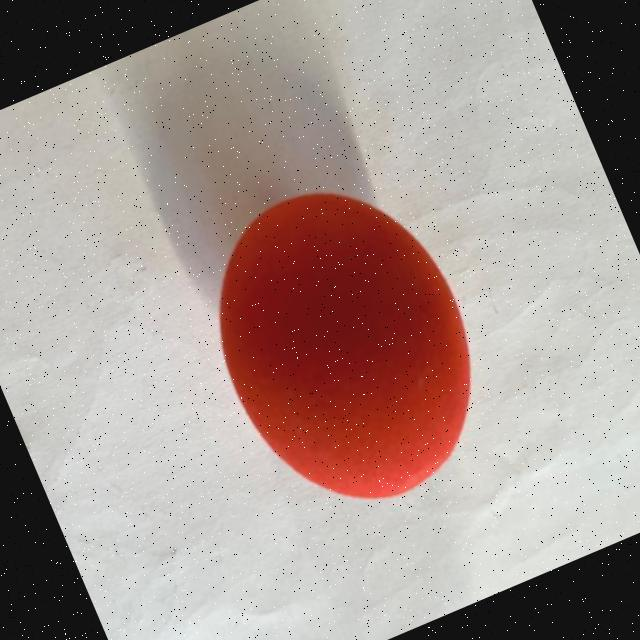ping-pong-ball: (172, 154, 522, 546)
